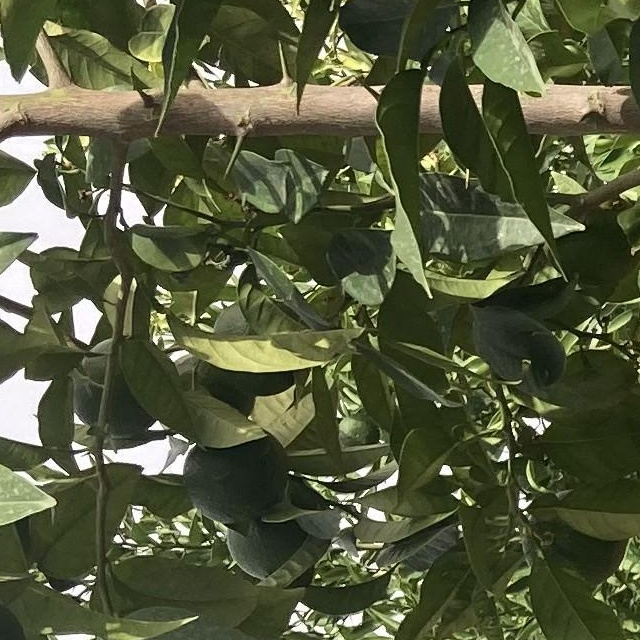orange: (209, 458, 351, 590), (67, 326, 185, 448), (181, 410, 301, 500), (0, 565, 34, 640)
